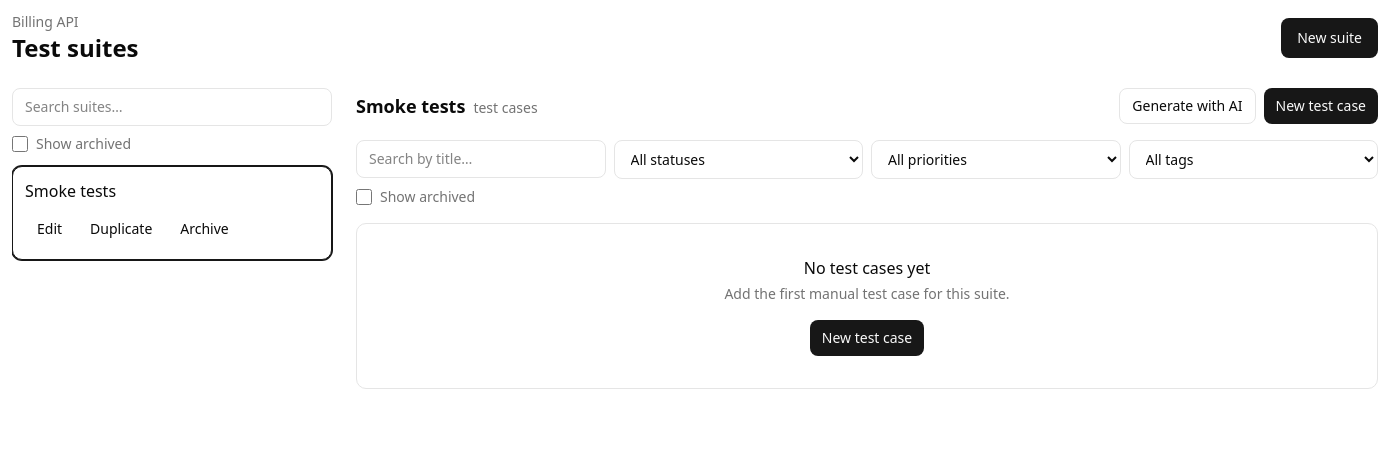
Scenario: TestManagement › archives a suite after confirmation
expect the button "Smoke tests" is shown: met, box top-left (25, 179), bottom-right (319, 203)
What coordinates should you click on to do the following:
click the button "Archive"
I would click on:
 (205, 229)
Its box is top-left (168, 211), bottom-right (241, 247).
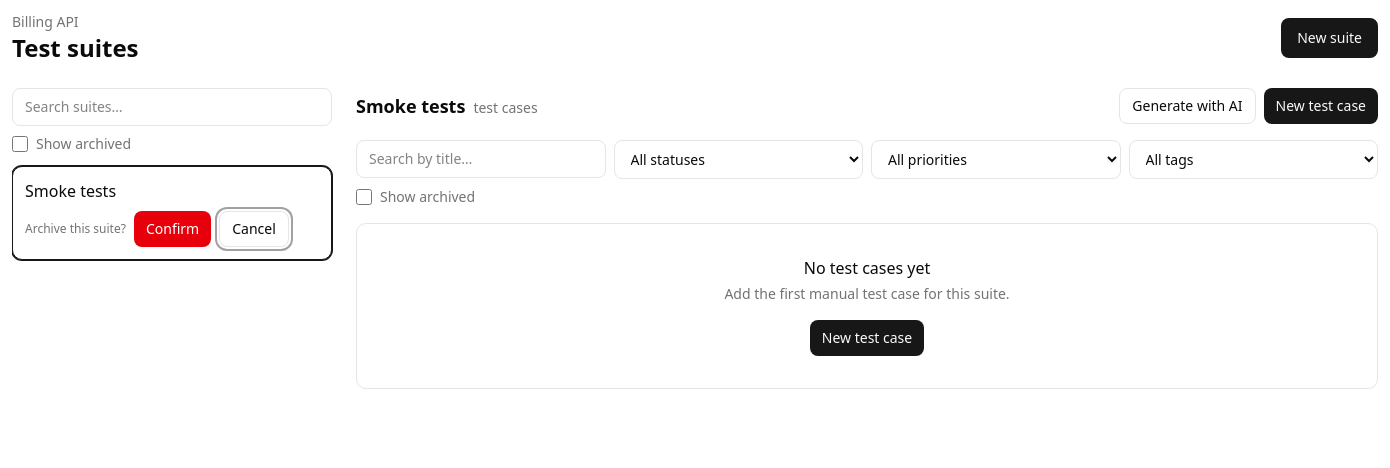
expect the text "Archive this suite?" is shown: met, box top-left (25, 221), bottom-right (126, 237)
What coordinates should you click on to do the following:
click the button "Confirm"
I would click on:
 (173, 229)
Its box is top-left (134, 211), bottom-right (211, 247).
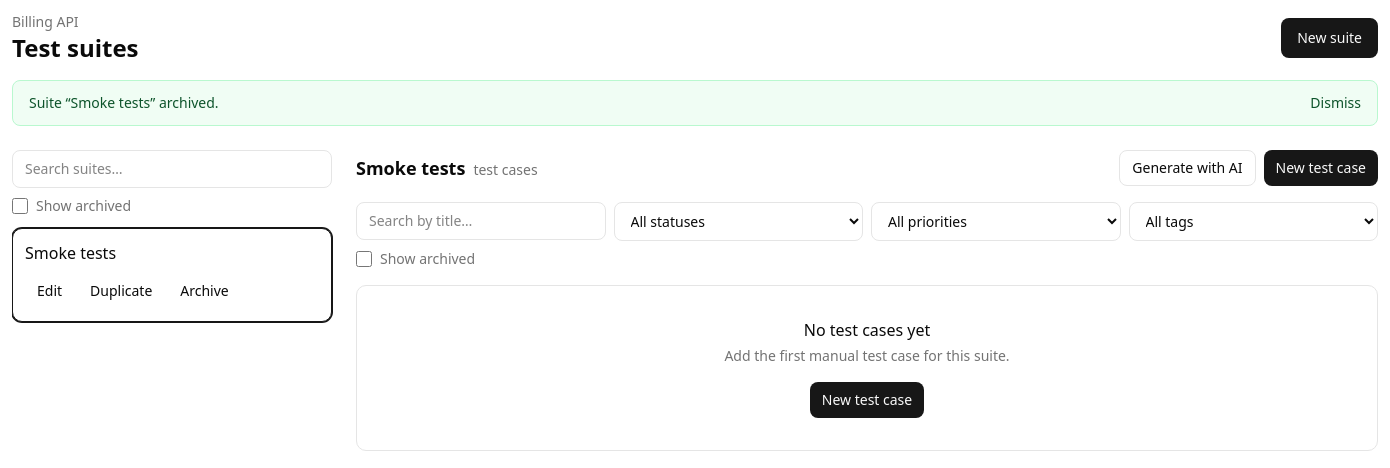
expect the message shows "archived": met, box top-left (29, 93), bottom-right (219, 112)
